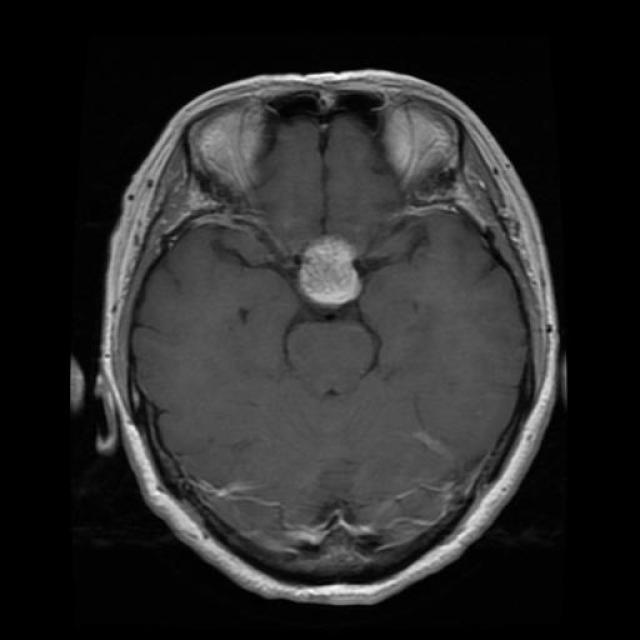pituitary: (296, 230, 368, 312)
